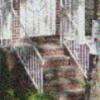stairs: (18, 35, 93, 100)
